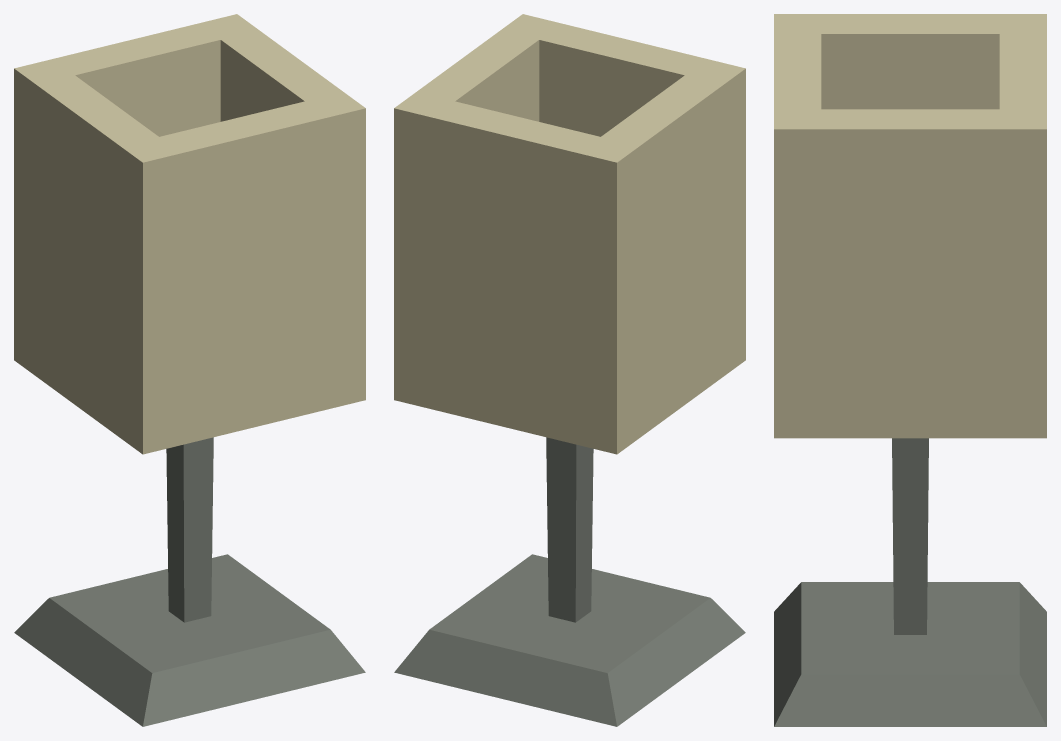
Rendered from lampSquareTable.glb.
The picture shows the model from 3 angles, left to right: view 1: azimuth 30°, elevation 25°; view 2: azimuth 150°, elevation 25°; view 3: azimuth 270°, elevation 25°; orthographic projection. The views are drawn at different scales.
Visible parts, largest first — view 1: lampSquareTable(Clone); view 2: lampSquareTable(Clone); view 3: lampSquareTable(Clone).
Part boxes in pixels (x1,y1,x2,y2): lampSquareTable(Clone): [14, 14, 365, 726]; lampSquareTable(Clone): [394, 14, 745, 726]; lampSquareTable(Clone): [774, 14, 1046, 726].
Size of the model in its own units: 0.12 by 0.29 by 0.12.
